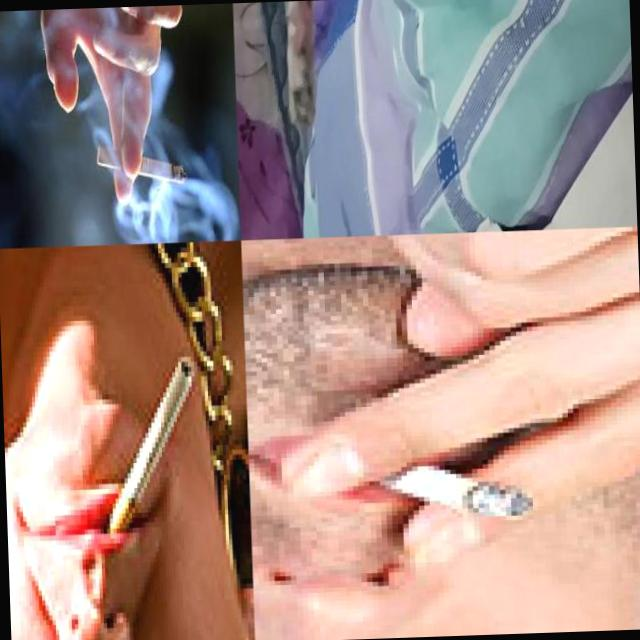smoke: (102, 354, 198, 540), (373, 456, 536, 524), (282, 0, 336, 127), (96, 142, 188, 188)
